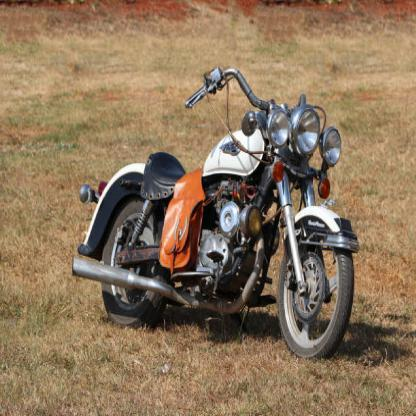Motorcycle: (63, 62, 371, 354)
